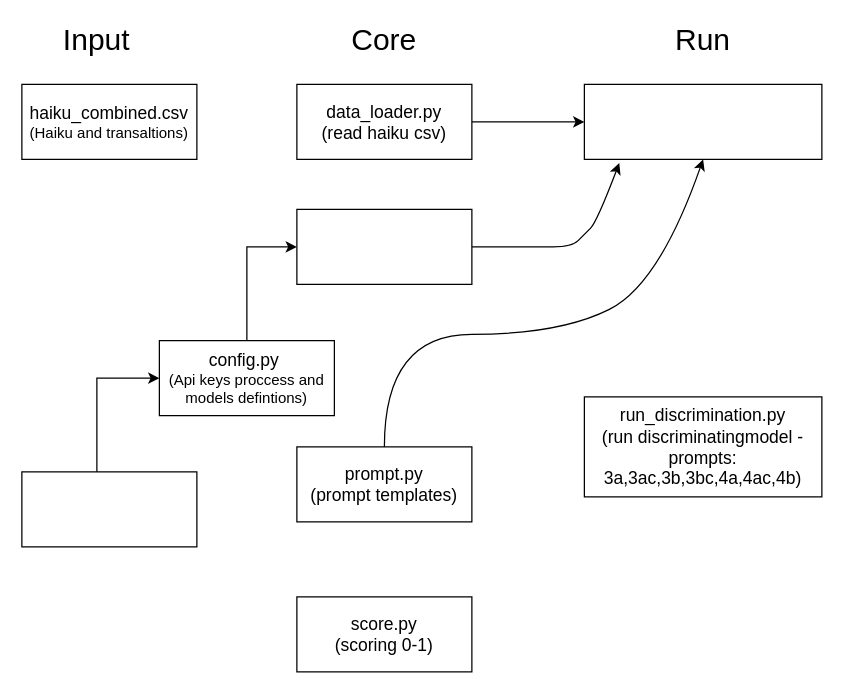
Image size: 844x694. Some labels were removed from this diagram. Each missing label, with the box of its shape:
api_keys.txt (hidden Api keys): (21, 471, 197, 547)
llm_client.py (liteLLM wrapper): (296, 208, 472, 284)
run_generation.py (run generating model - prompts: 1,1c,2a,2b,2c): (583, 83, 822, 159)
